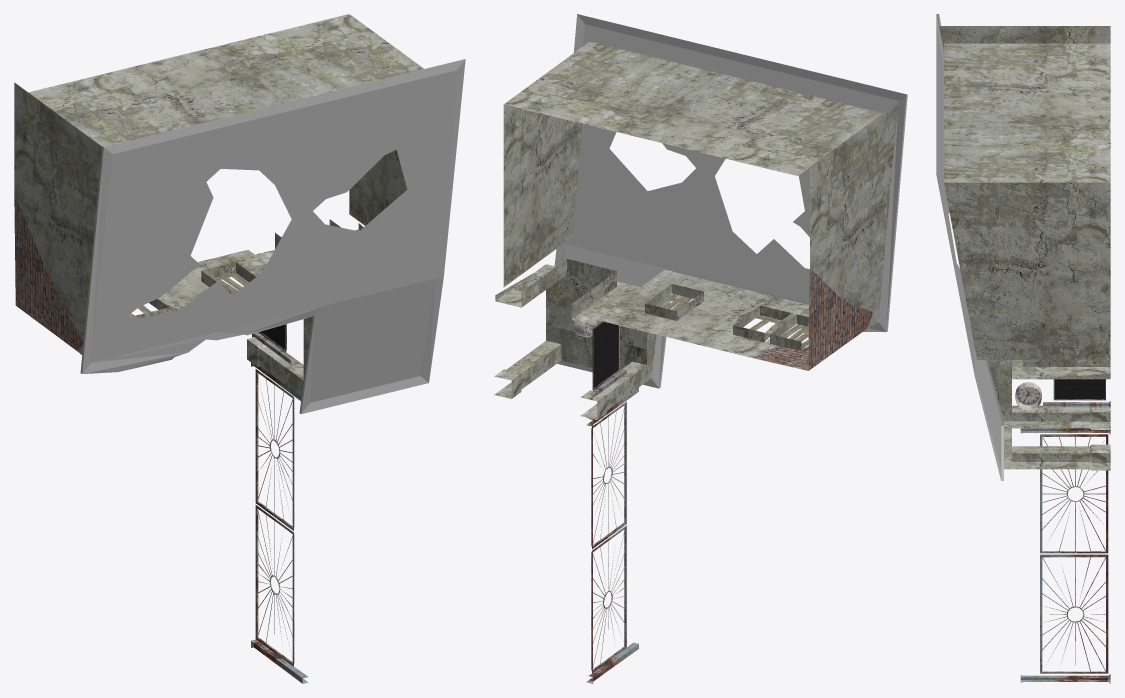
The model's file is pforte_LOD.fbx.
The picture shows the model from 3 angles, left to right: view 1: azimuth 30°, elevation 25°; view 2: azimuth 150°, elevation 25°; view 3: azimuth 270°, elevation 25°; orthographic projection. The views are drawn at different scales.
Parts seen in each view (by area): view 1: LOD1; view 2: LOD1; view 3: LOD1.
Part boxes in pixels (left/top/right/bottom): LOD1: left=14, top=14, right=465, bottom=683; LOD1: left=494, top=14, right=907, bottom=683; LOD1: left=936, top=14, right=1110, bottom=683.
Bounding box in the file's own units: 13.77 × 23.02 × 6.48.
